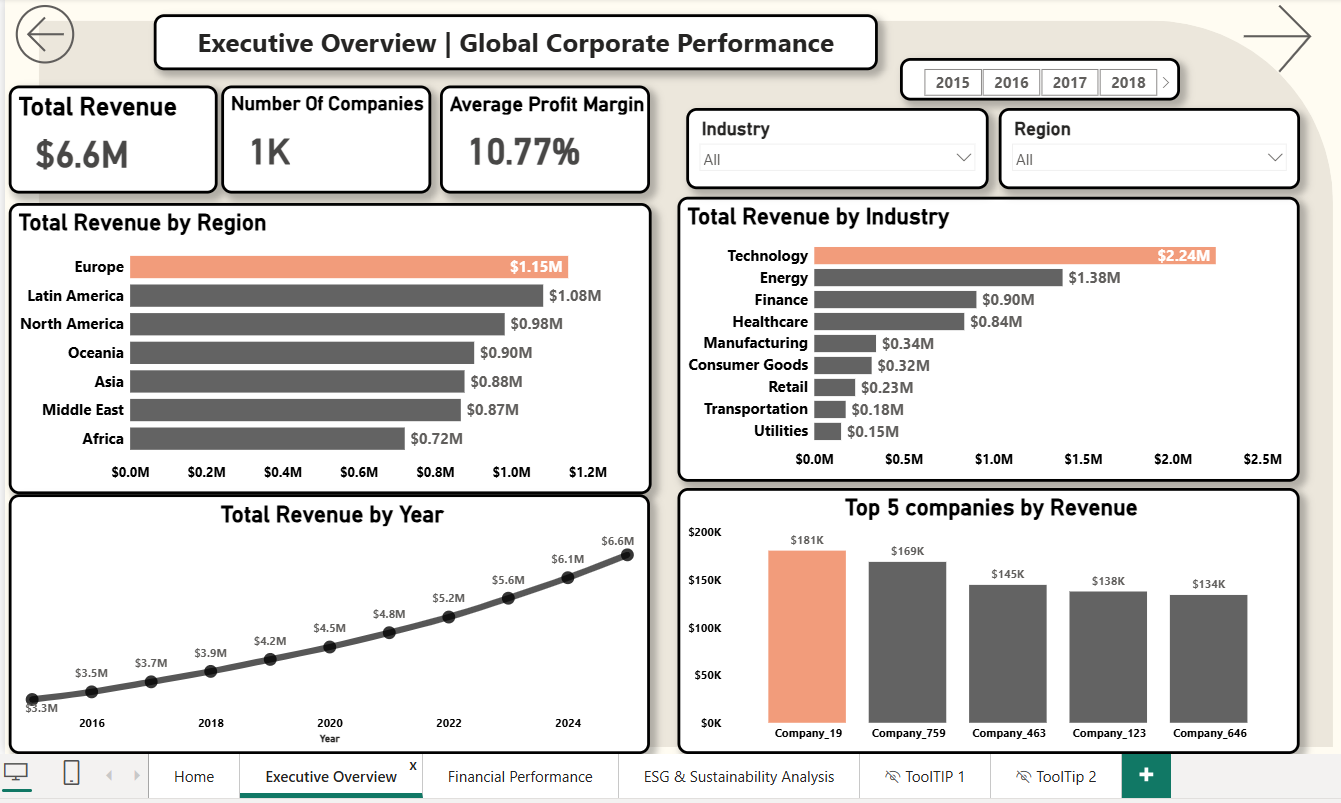

What the dashboard file says about the page in this screenshot:
{"tool":"powerbi","page":{"name":"Executive Overview","canvas":[1920,1080],"ordinal":1},"visuals":[{"type":"shape","box":[49.1,32.7,1849.1,1038.2],"z":0},{"type":"cardVisual","title":"Total Revenue","fields":{"Data":["dim_company.Total Revenue"]},"box":[5.5,125.5,298.2,154.5],"z":1000},{"type":"clusteredBarChart","fields":{"Category":["dim_company.Region"],"Y":["dim_company.Total Revenue"]},"box":[5.5,292.7,918.2,416.4],"z":2000},{"type":"clusteredBarChart","fields":{"Y":["dim_company.Total Revenue"],"Category":["dim_company.Industry"]},"box":[960,283.6,889.1,407.3],"z":3000},{"type":"cardVisual","title":"Number Of Companies","fields":{"Data":["dim_company.Number Of Companies"]},"box":[309.1,125.5,300,154.5],"z":4000},{"type":"slicer","fields":{"Values":["dim_date.Year"]},"box":[1278.6,85.7,400,60.7],"z":5000},{"type":"cardVisual","title":"Average Profit Margin","fields":{"Data":["dim_company.Average Profit Margin"]},"box":[621.8,125.5,300,154.5],"z":6000},{"type":"lineChart","fields":{"Category":["dim_date.Year"],"Y":["dim_company.Total Revenue"]},"box":[5.5,709.1,916.4,370.9],"z":7000},{"type":"clusteredColumnChart","title":"Top 5 companies by Revenue","fields":{"Category":["dim_company.CompanyName"],"Y":["dim_company.Total Revenue"]},"box":[960,700,889.1,380],"z":8000},{"type":"textbox","box":[212.7,23.6,1034.5,80],"z":9000},{"type":"slicer","fields":{"Values":["dim_company.Industry"]},"box":[973.2,157.1,432.1,116.1],"z":10000},{"type":"slicer","fields":{"Values":["dim_company.Region"]},"box":[1419.7,157.1,430.4,116.1],"z":11000},{"type":"actionButton","box":[1758.9,0,160.7,116.1],"z":12000},{"type":"actionButton","box":[5.4,0,485.7,103.6],"z":13001}]}

Visuals, with their boxes on the page's 1920x1080 design canvas (x1, y1, x2, y2). These are canvas units, not pixel positions in the 1341x803 screenshot, which may show the page scaled, cropped or inside an application window:
shape: locate(49, 33, 1898, 1071)
"Total Revenue" cardVisual: locate(6, 126, 304, 280)
clusteredBarChart - dim_company.Region x dim_company.Total Revenue: locate(6, 293, 924, 709)
clusteredBarChart - dim_company.Total Revenue x dim_company.Industry: locate(960, 284, 1849, 691)
"Number Of Companies" cardVisual: locate(309, 126, 609, 280)
slicer - dim_date.Year: locate(1279, 86, 1679, 146)
"Average Profit Margin" cardVisual: locate(622, 126, 922, 280)
lineChart - dim_date.Year x dim_company.Total Revenue: locate(6, 709, 922, 1080)
"Top 5 companies by Revenue" clusteredColumnChart: locate(960, 700, 1849, 1080)
textbox: locate(213, 24, 1247, 104)
slicer - dim_company.Industry: locate(973, 157, 1405, 273)
slicer - dim_company.Region: locate(1420, 157, 1850, 273)
actionButton: locate(1759, 0, 1920, 116)
actionButton: locate(5, 0, 491, 104)
